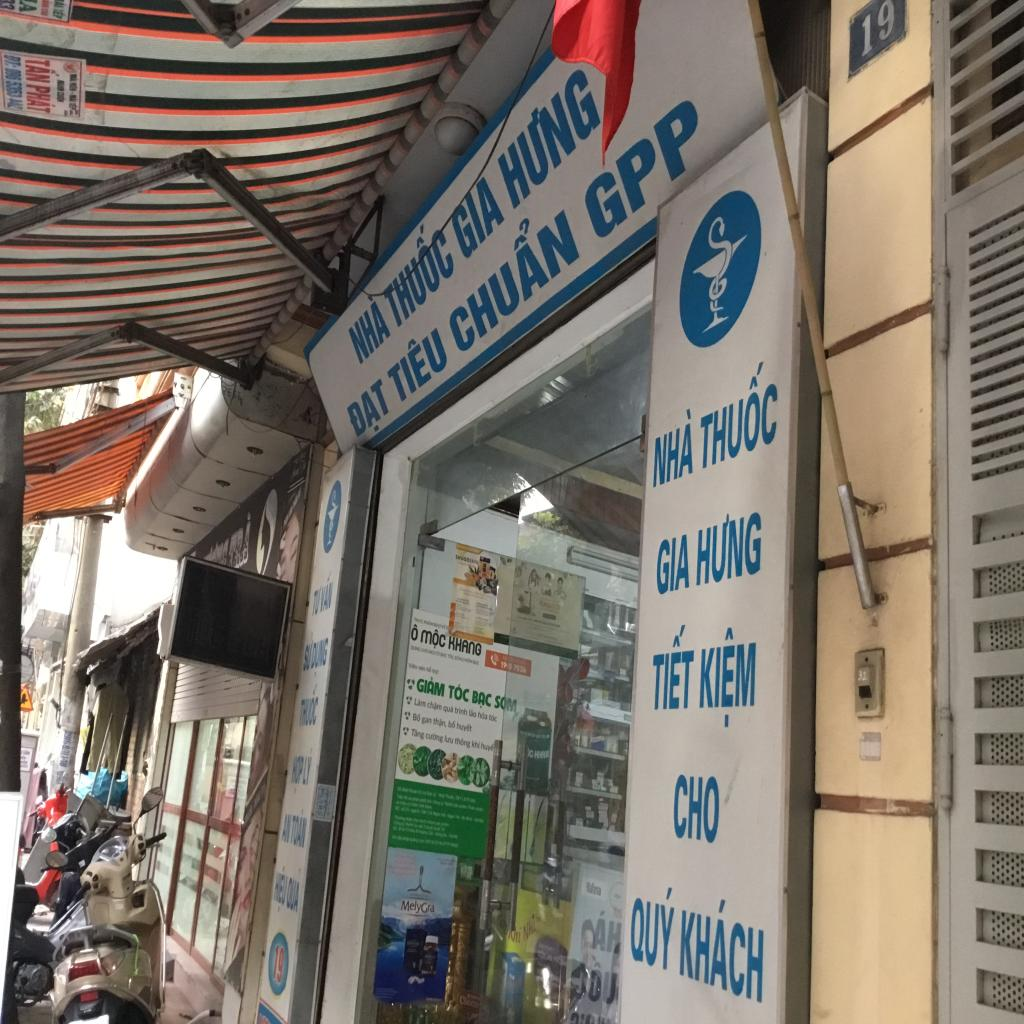text: (443, 186, 581, 358), (583, 94, 706, 245), (495, 57, 602, 213), (676, 890, 766, 1006), (701, 346, 779, 470), (380, 210, 458, 332), (696, 624, 758, 733), (383, 316, 450, 407), (449, 170, 508, 263), (695, 503, 761, 586), (627, 880, 679, 975), (651, 623, 698, 715), (344, 290, 393, 365), (651, 404, 694, 489), (672, 772, 720, 846), (346, 376, 392, 444), (184, 596, 228, 650), (861, 1, 898, 58), (656, 534, 690, 596), (586, 954, 619, 1006), (228, 508, 253, 570), (590, 909, 623, 955), (298, 681, 323, 728), (25, 56, 63, 84), (271, 863, 291, 914), (26, 84, 56, 114), (284, 865, 302, 914), (290, 807, 310, 851), (309, 637, 329, 680), (5, 68, 24, 110), (287, 755, 306, 796), (319, 566, 335, 614), (416, 673, 446, 698), (420, 625, 447, 652), (448, 636, 482, 656), (271, 942, 285, 986), (400, 899, 436, 915), (60, 729, 74, 770), (302, 628, 315, 672), (301, 746, 314, 786), (447, 681, 470, 703), (471, 689, 493, 710), (494, 694, 517, 713), (280, 814, 293, 846), (524, 912, 537, 944), (310, 585, 322, 618), (222, 384, 242, 401), (454, 553, 480, 566), (494, 909, 508, 933), (459, 994, 478, 1010), (538, 600, 561, 612), (4, 54, 22, 68), (456, 721, 473, 734), (425, 732, 443, 744), (410, 727, 425, 741), (40, 1, 52, 17), (410, 623, 420, 642), (427, 700, 442, 712), (433, 717, 448, 729), (455, 737, 471, 748), (52, 8, 66, 20), (481, 741, 495, 753), (513, 926, 522, 944), (856, 670, 869, 682), (0, 2, 16, 11), (414, 697, 426, 708), (442, 704, 454, 715), (513, 664, 526, 674), (534, 750, 550, 758), (454, 707, 468, 716), (421, 716, 432, 726), (468, 709, 478, 719), (471, 740, 481, 750), (489, 713, 498, 724), (428, 649, 441, 656), (478, 711, 488, 720), (412, 713, 422, 722), (444, 735, 454, 744), (410, 644, 421, 652), (448, 720, 457, 729), (408, 662, 418, 670), (462, 657, 473, 664), (500, 660, 507, 670), (414, 617, 423, 624), (424, 620, 434, 626), (440, 652, 448, 659), (454, 654, 462, 661), (418, 665, 426, 672), (432, 668, 439, 676), (426, 665, 432, 674), (508, 662, 513, 672), (529, 748, 534, 758), (22, 749, 30, 755), (421, 648, 429, 654), (472, 660, 480, 666), (434, 622, 441, 628), (448, 653, 454, 660), (441, 624, 447, 630)
